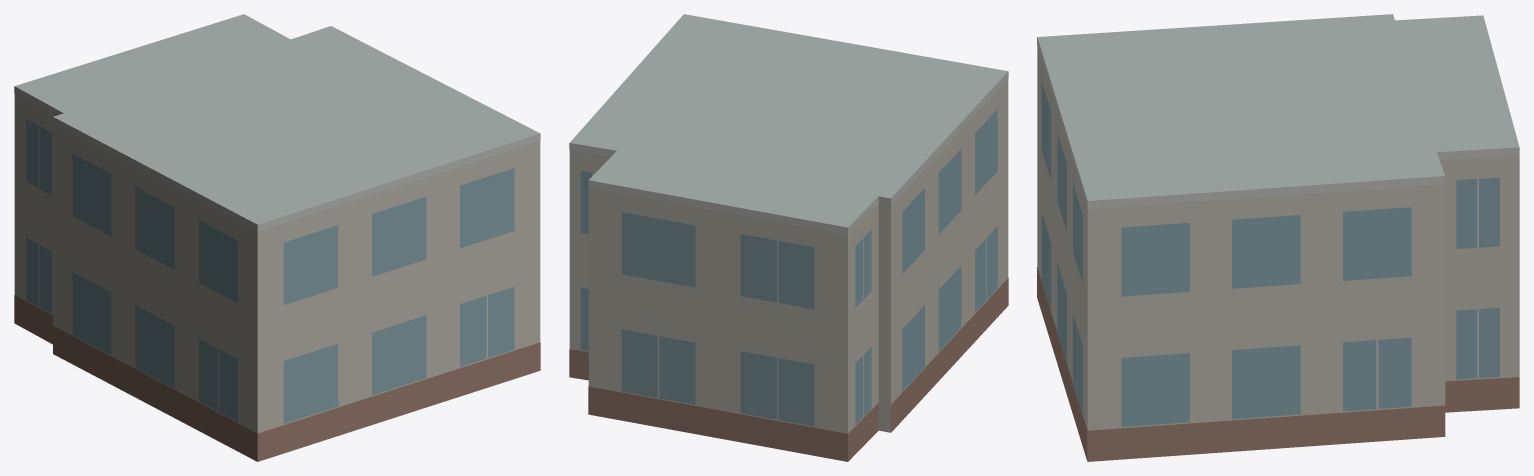
The model's file is survey-upis-32747525.glb.
3 renders of one model, left to right at view 1: azimuth 30°, elevation 25°; view 2: azimuth 150°, elevation 25°; view 3: azimuth 270°, elevation 25°, orthographic. The views are drawn at different scales.
Parts seen in each view (by area): view 1: survey-upis-32747525.tmp; view 2: survey-upis-32747525.tmp; view 3: survey-upis-32747525.tmp.
Boxes of the visible parts, x1,y1,x2,y2 form: survey-upis-32747525.tmp: (14, 14, 540, 461); survey-upis-32747525.tmp: (569, 14, 1008, 461); survey-upis-32747525.tmp: (1037, 14, 1519, 461).
Bounding box in the file's own units: 12.16 × 7.9 × 13.25.
